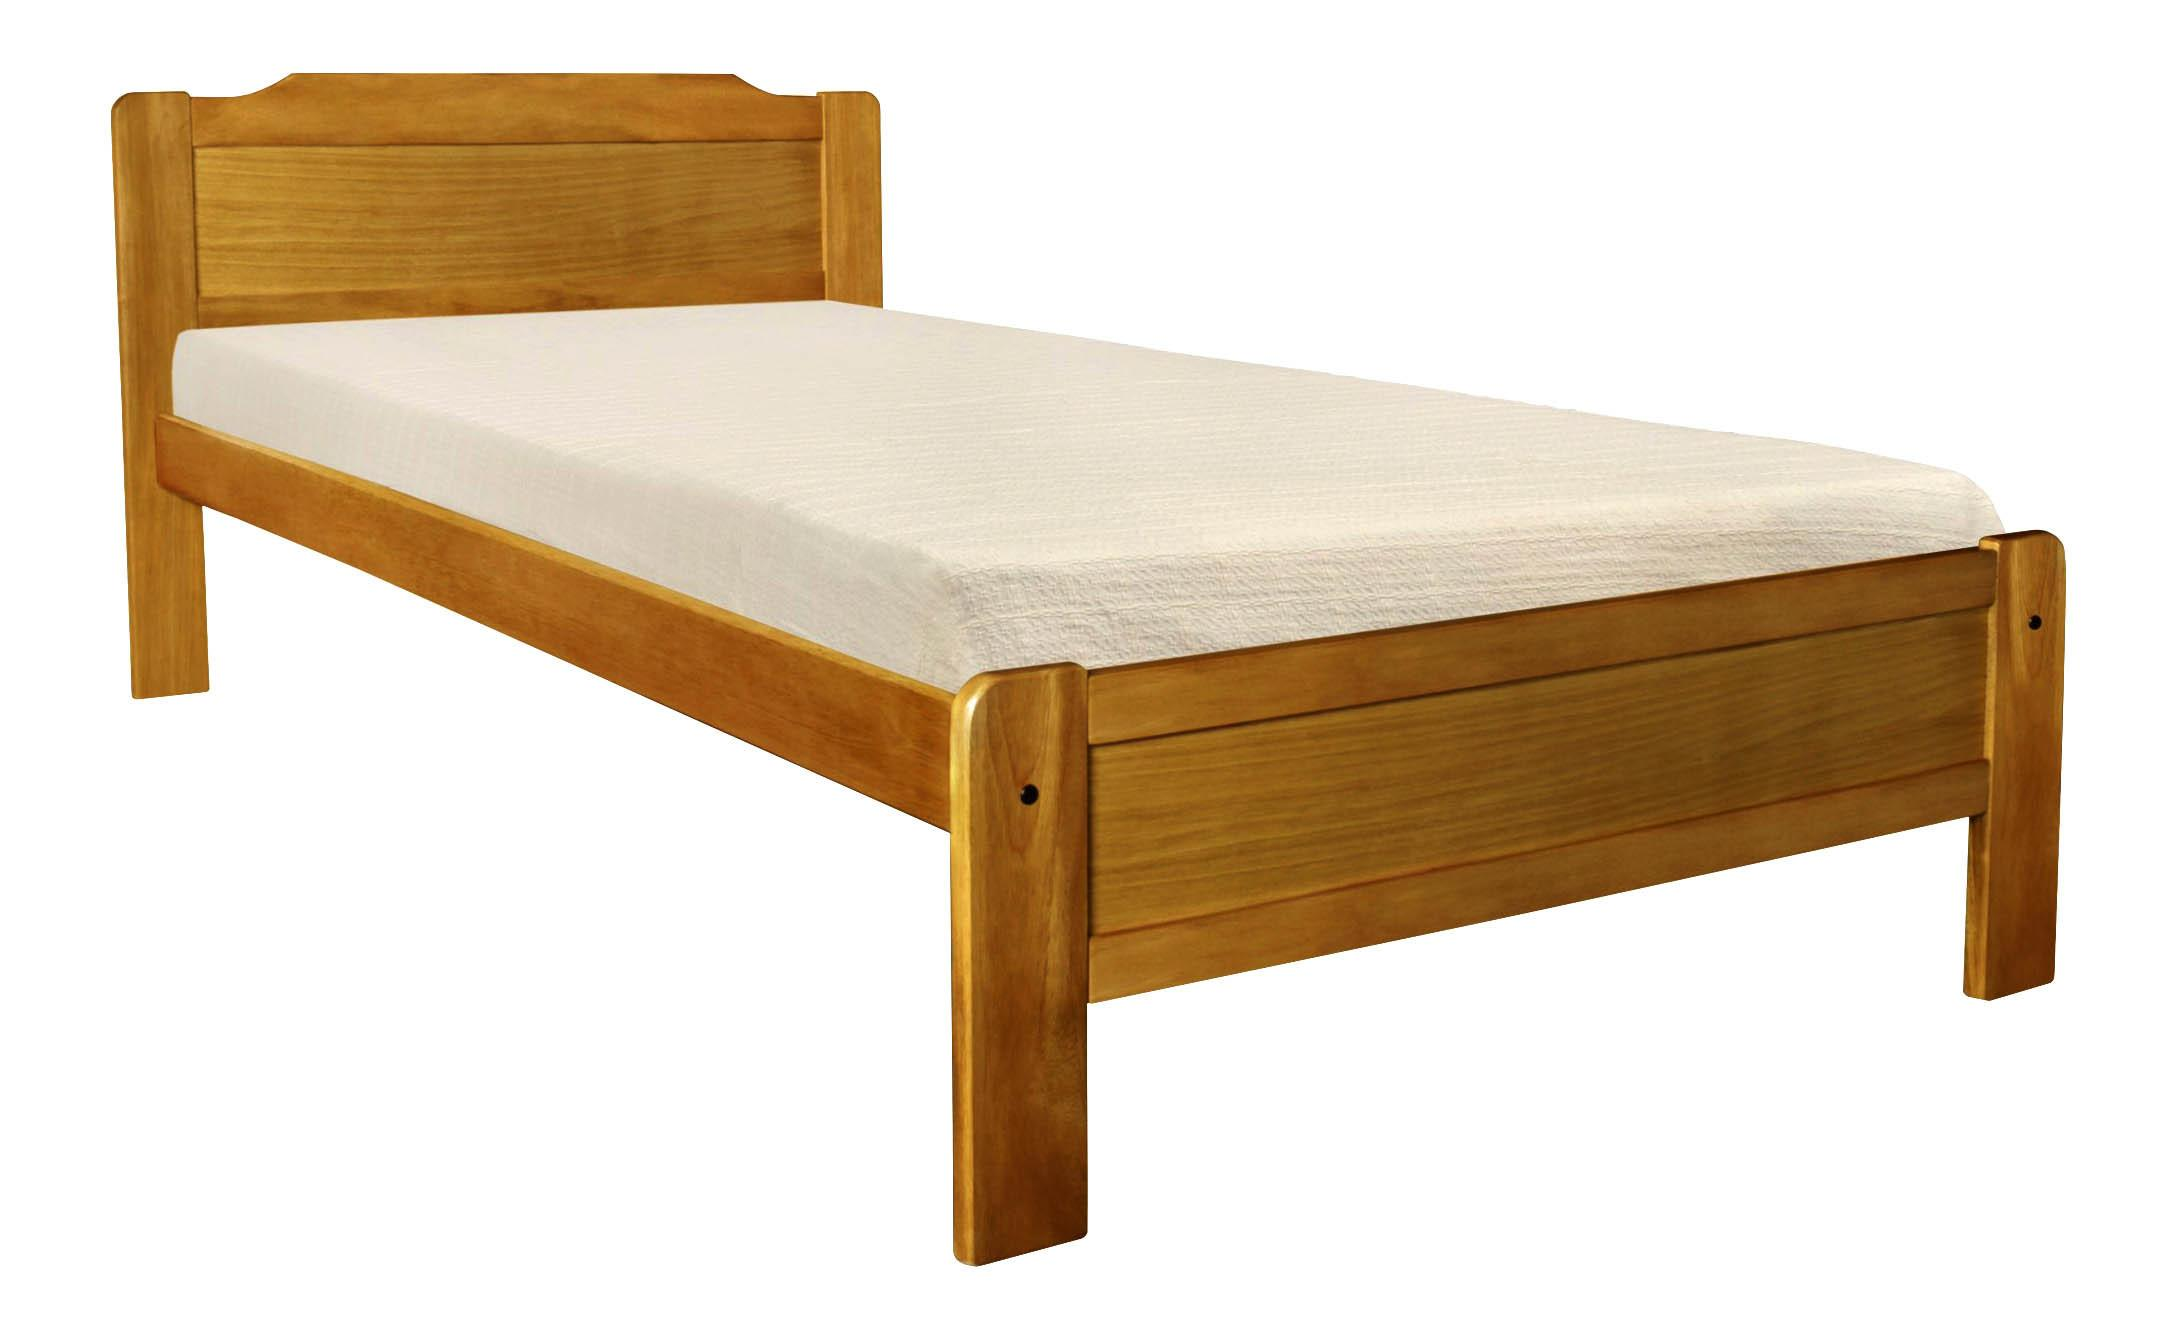bed: (61, 0, 2020, 1154)
